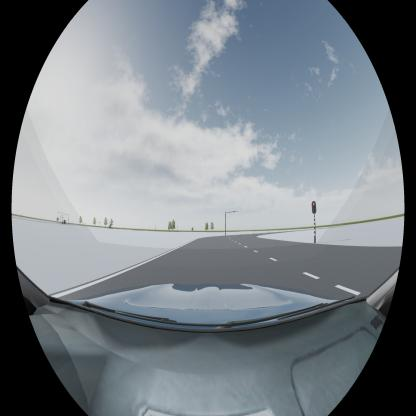Red Light: (312, 200, 316, 214)
